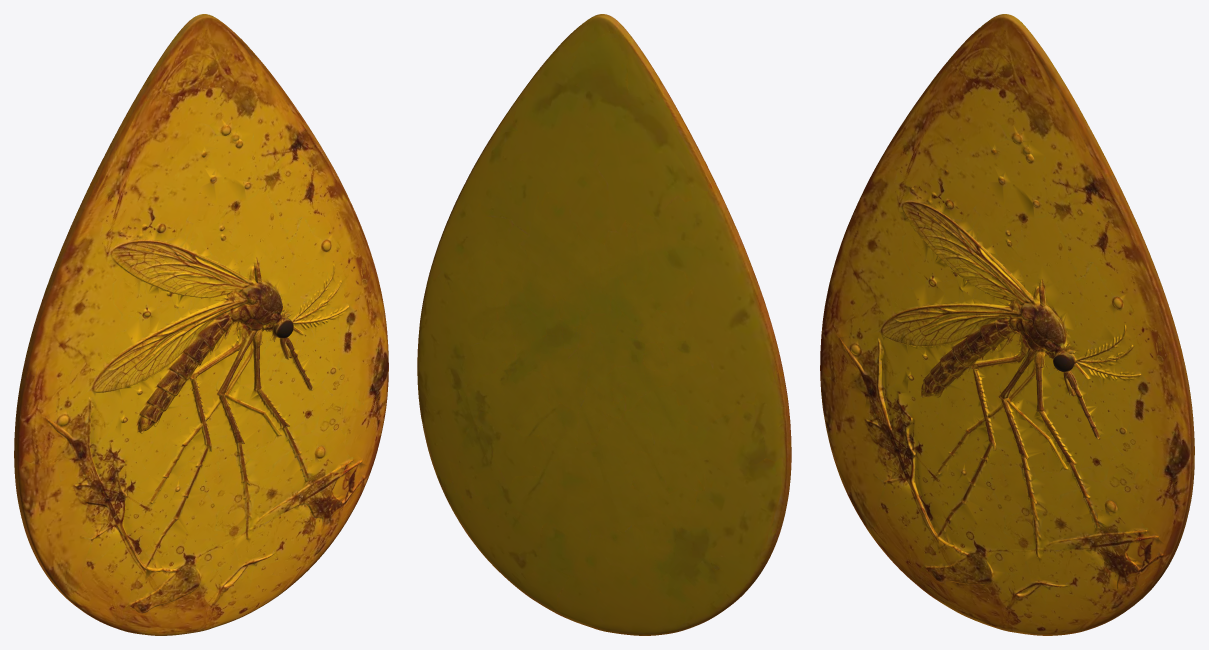
The picture shows the model from 3 angles, left to right: view 1: azimuth 30°, elevation 25°; view 2: azimuth 150°, elevation 25°; view 3: azimuth 330°, elevation 25°; orthographic projection.
Parts seen in each view (by area): view 1: Mesh_0; view 2: Mesh_0; view 3: Mesh_0.
Boxes of the visible parts, <box> form: Mesh_0: <box>14,14,388,635</box>; Mesh_0: <box>417,14,791,635</box>; Mesh_0: <box>820,14,1194,635</box>.
Size of the model in its own units: 1.2 by 1.9 by 0.1588.
1 material, 1 textured.
